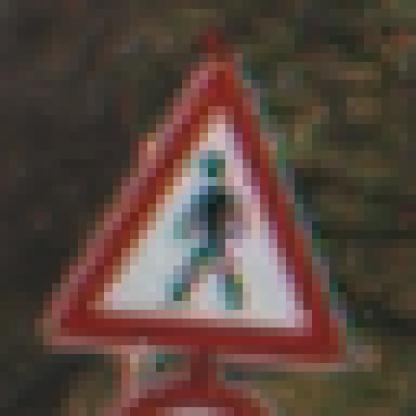crosswalk: (79, 67, 370, 391)
